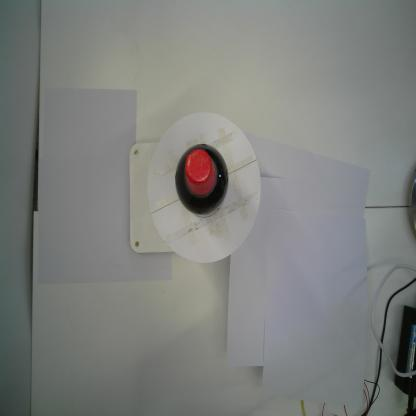Alcohol: (174, 142, 230, 218)
